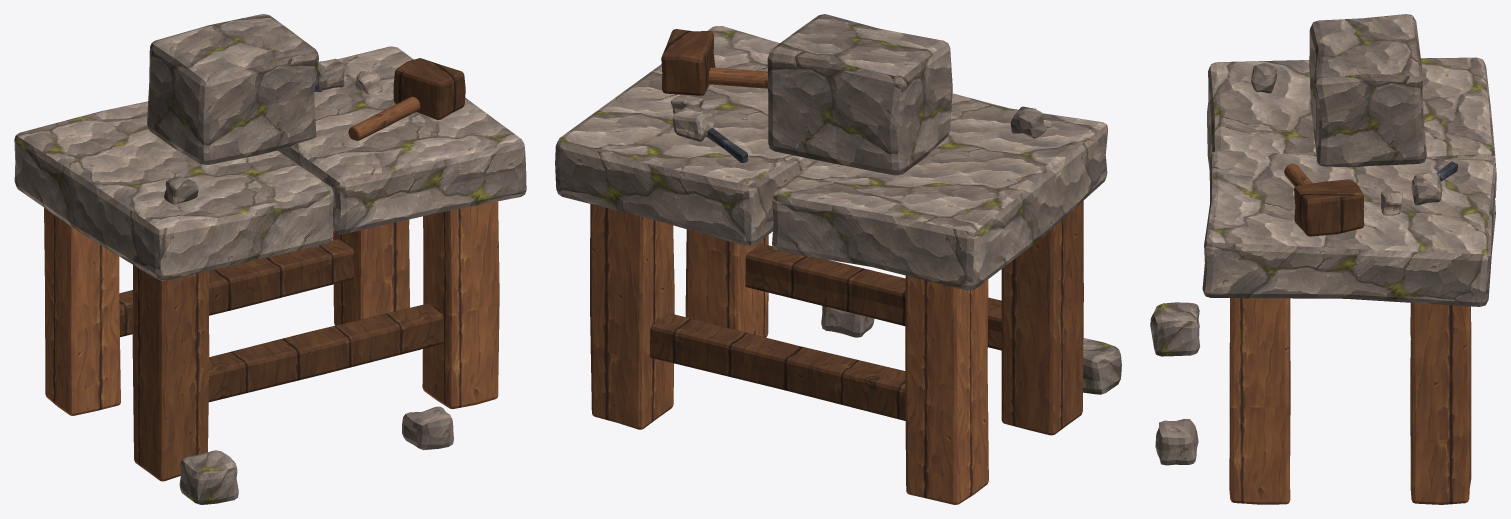
The model's file is masonry_table.glb.
3 renders of one model, left to right at view 1: azimuth 30°, elevation 25°; view 2: azimuth 150°, elevation 25°; view 3: azimuth 270°, elevation 25°, orthographic. The views are drawn at different scales.
Parts seen in each view (by area): view 1: model; view 2: model; view 3: model.
Boxes of the visible parts, x1,y1,x2,y2 form: model: (14,14,526,504); model: (555,14,1121,504); model: (1150,14,1496,504).
Size of the model in its own units: 1.31 by 1.17 by 0.9971.
Materials: 8 (8 with a texture image).
